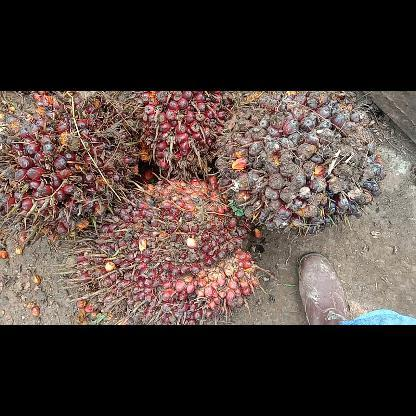Kurang masak: (212, 90, 388, 240)
TBS masak: (57, 170, 268, 324), (0, 90, 141, 246), (126, 91, 238, 181)
